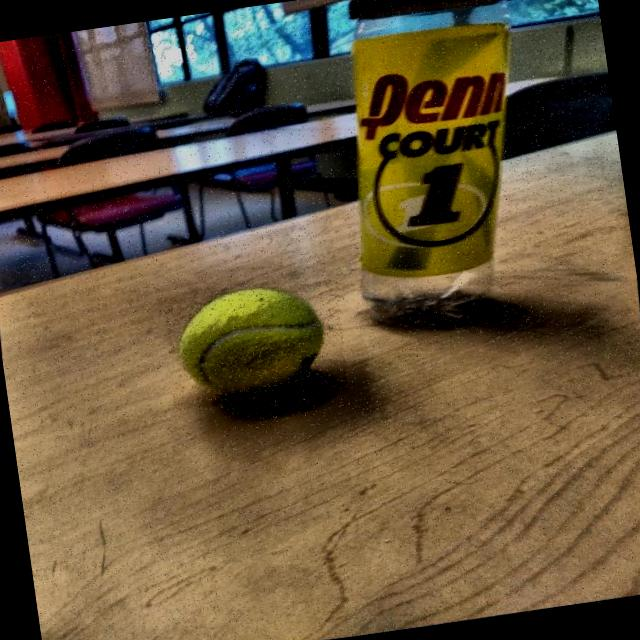tennis-ball: (160, 275, 356, 417)
